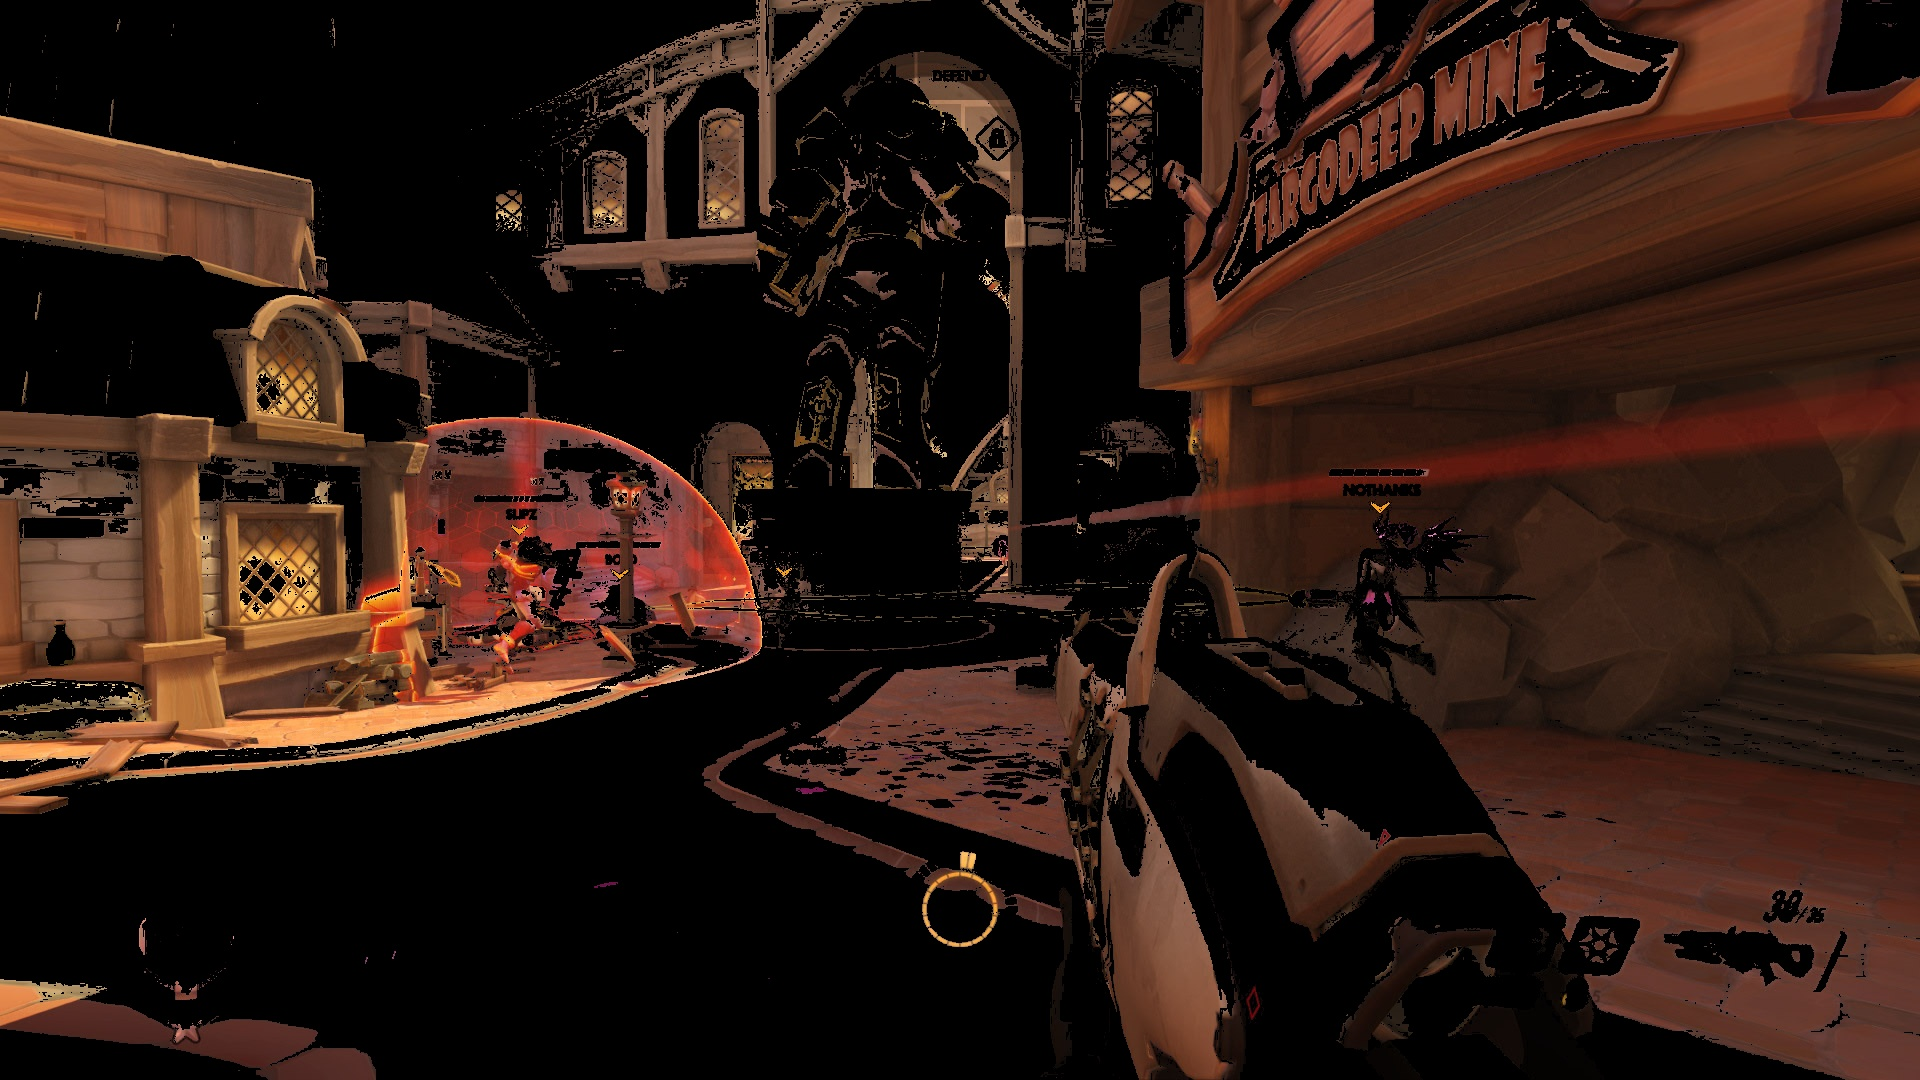widowmaker: (992, 535, 1011, 570)
